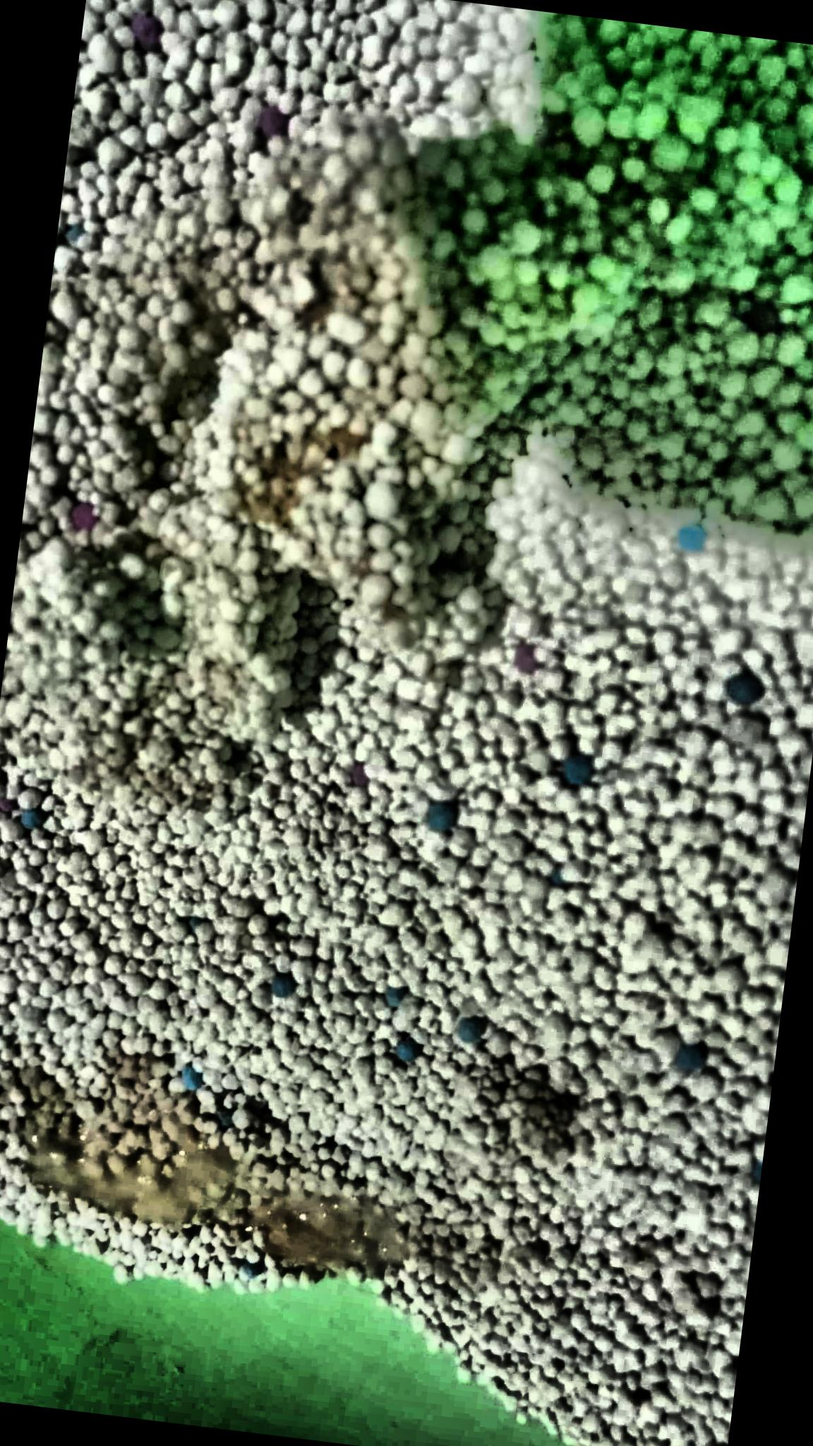poop: (123, 131, 629, 705), (20, 1096, 402, 1267)
